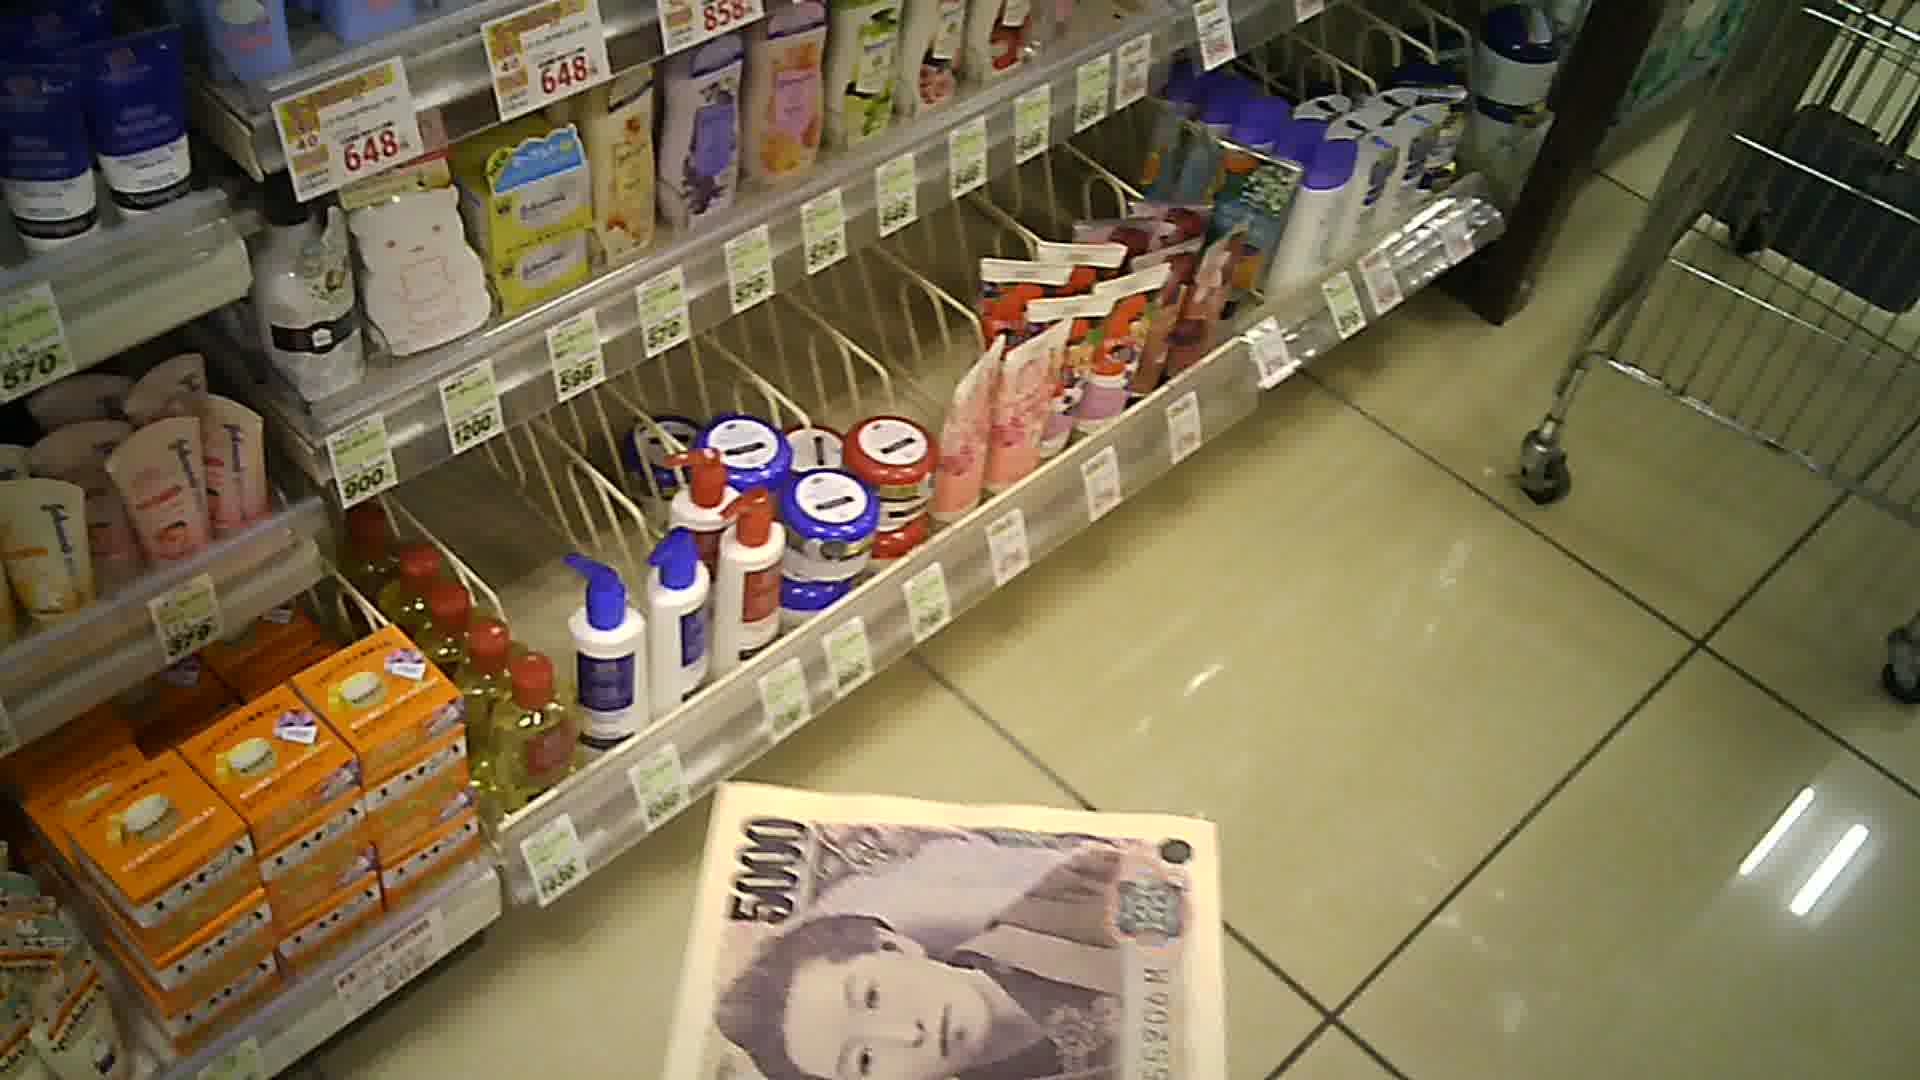5,000 Yen: (644, 775, 1240, 1065)
